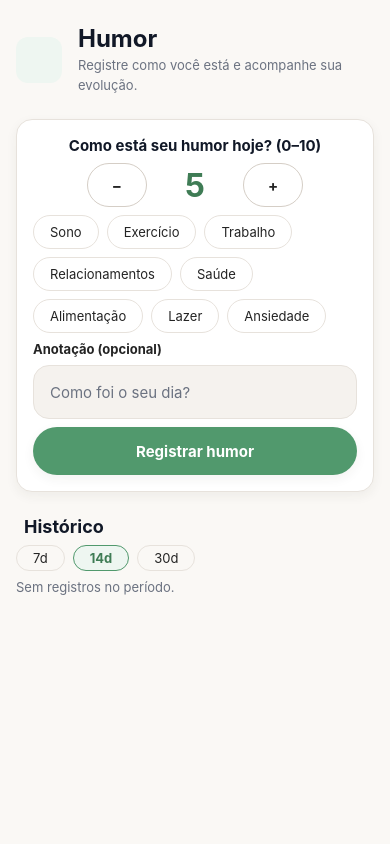
Test case: Tela de Humor › sem registro hoje mostra o formulário; submit válido passa a mostrar o registro de hoje
The width and height of the screenshot is (390, 844).
Expected: the element with test id "mood.form" is shown, [16, 119, 374, 492]
Click the button with test id "mood.form.submit": (195, 451) [33, 427, 357, 475]
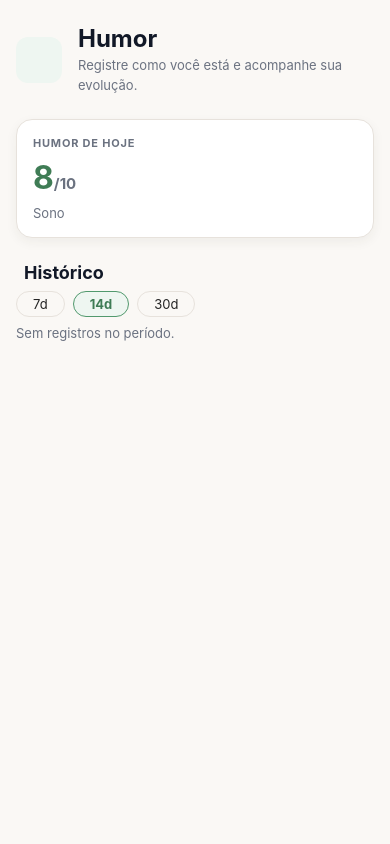
Now the element with test id "mood.today" is shown, box [16, 119, 374, 238]
